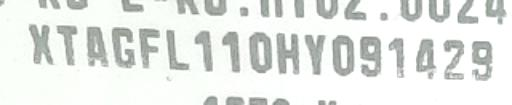letter: (408, 33, 442, 86), (160, 27, 196, 74), (24, 19, 58, 68), (275, 28, 305, 79), (80, 22, 112, 69), (107, 24, 139, 71), (300, 32, 332, 79), (246, 28, 276, 77), (440, 36, 470, 85), (329, 35, 361, 80), (218, 28, 246, 79), (357, 30, 385, 81), (384, 33, 412, 84), (469, 33, 497, 84), (136, 26, 166, 69), (192, 26, 216, 77), (56, 22, 80, 65)
